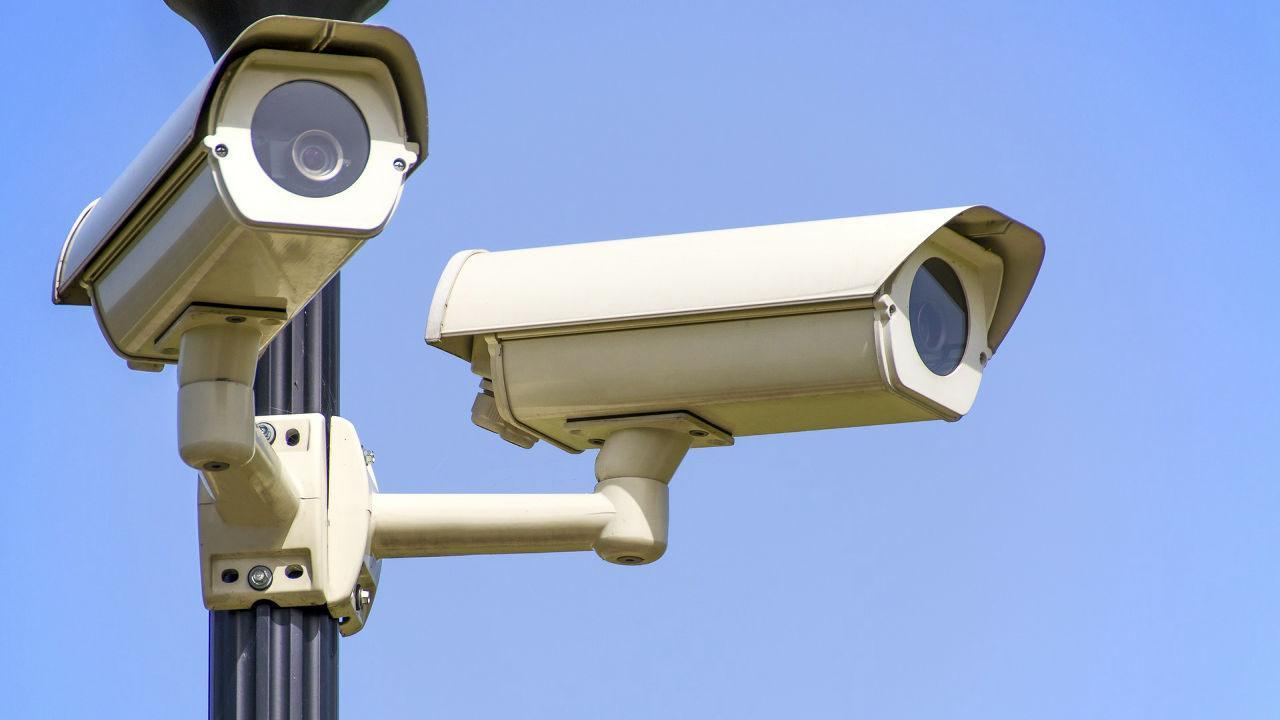tutu: (430, 169, 1040, 500), (67, 0, 447, 428)
